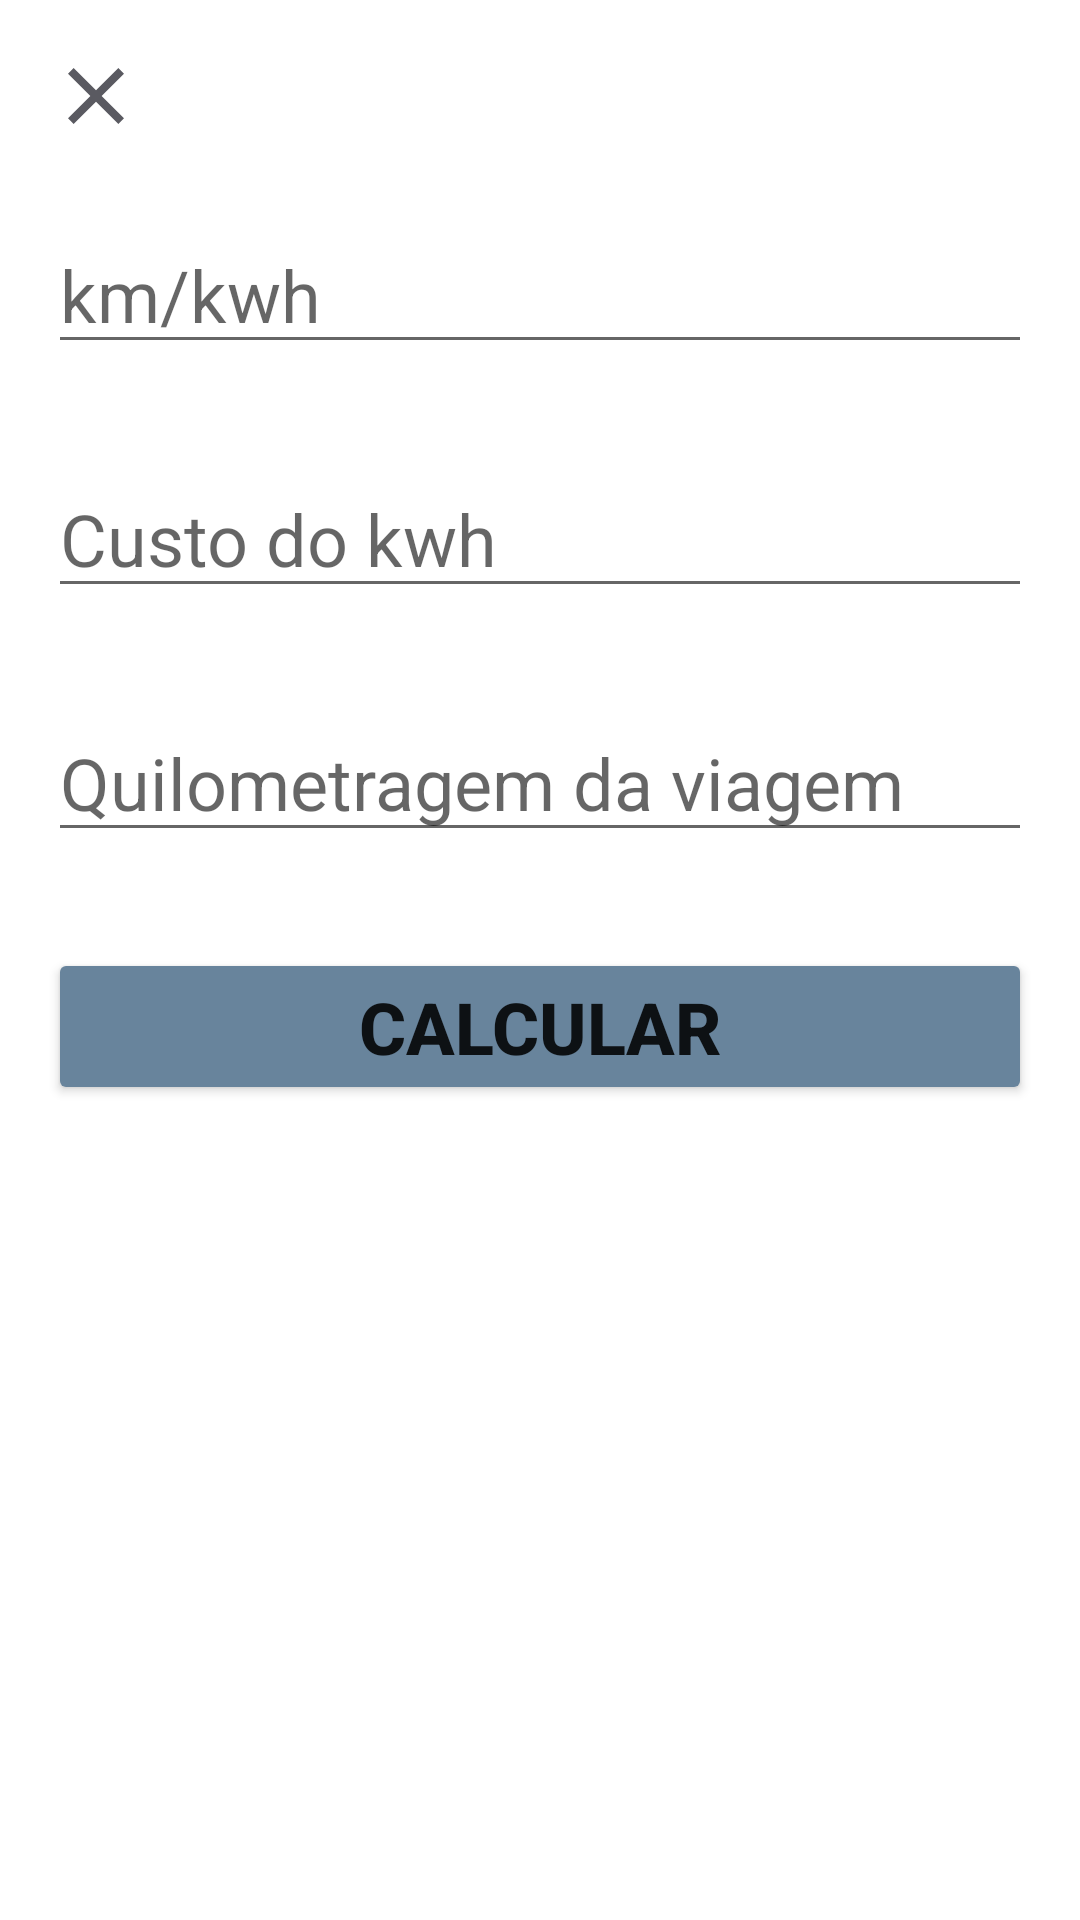

Icons on this 1080w x 1920h Android screen, each with its box as (x1, y1, x2, y2):
close: (68, 68, 124, 124)
